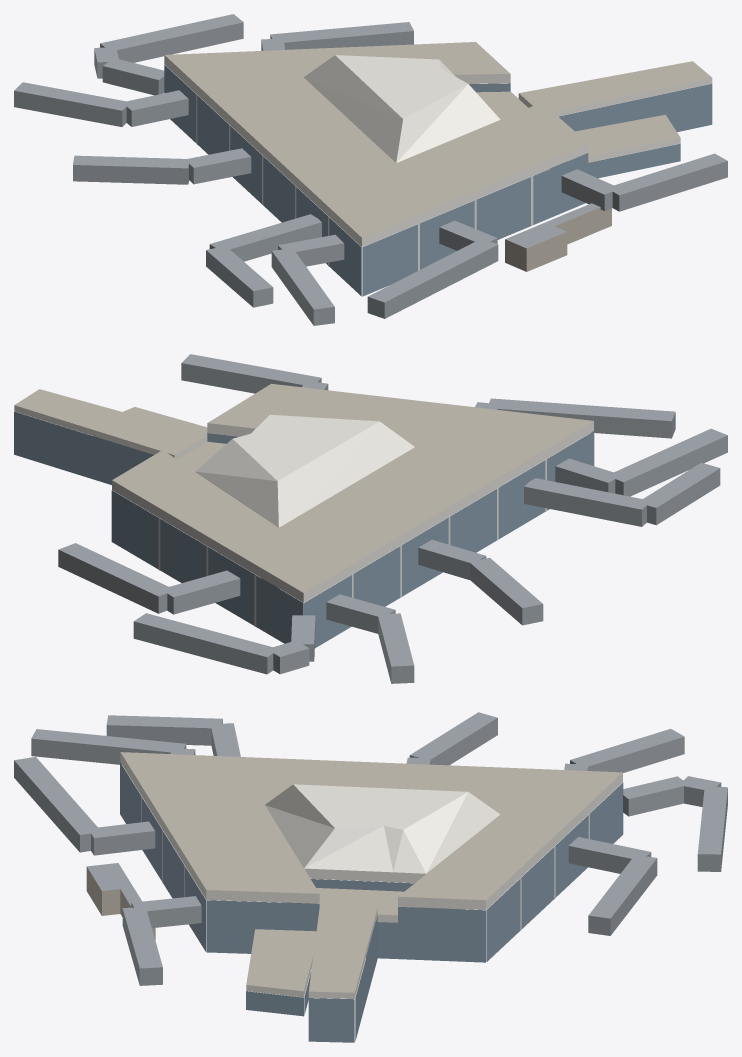
File: paris-cdg-terminal-1-satellite-y.glb
The picture shows the model from 3 angles, top to bottom: view 1: azimuth 30°, elevation 25°; view 2: azimuth 150°, elevation 25°; view 3: azimuth 270°, elevation 25°; orthographic projection. The views are drawn at different scales.
Parts seen in each view (by area): view 1: Paris-CDG Terminal 1 Satellite Y; view 2: Paris-CDG Terminal 1 Satellite Y; view 3: Paris-CDG Terminal 1 Satellite Y.
Part boxes in pixels (x1,y1,x2,y2): Paris-CDG Terminal 1 Satellite Y: [14, 14, 727, 325]; Paris-CDG Terminal 1 Satellite Y: [14, 354, 727, 683]; Paris-CDG Terminal 1 Satellite Y: [14, 712, 727, 1042].
Bounding box in the file's own units: 100 × 15 × 104.
